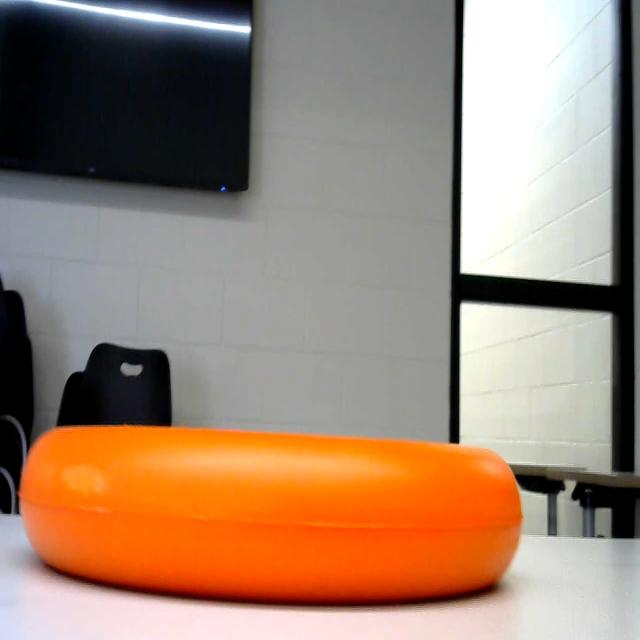note: (7, 407, 529, 621)
